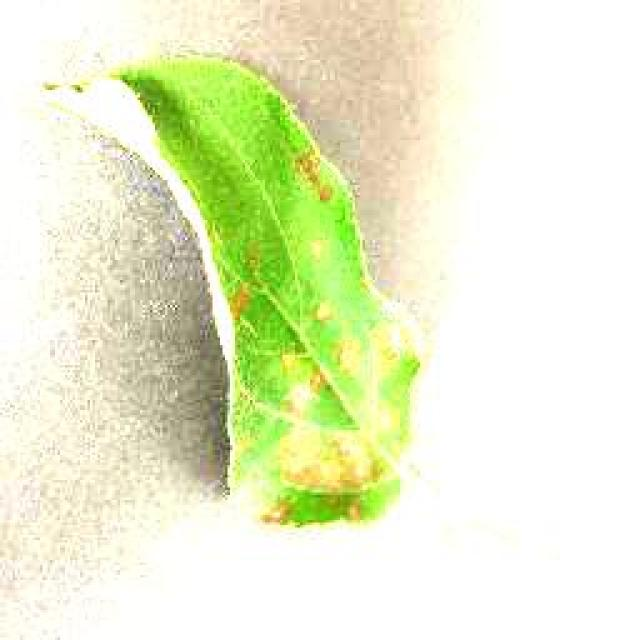apple rust disease: (38, 45, 428, 530)
